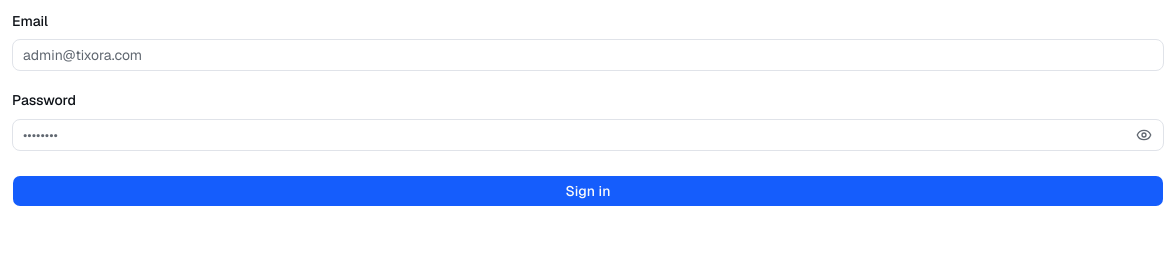
Test: LoginForm › shows validation errors and does not submit for invalid input
This screenshot has width=1176, height=279.
Type "not-an-email" into the field labelled "Email".
click(588, 55); type("not-an-email")  # box [12,39,1164,71]
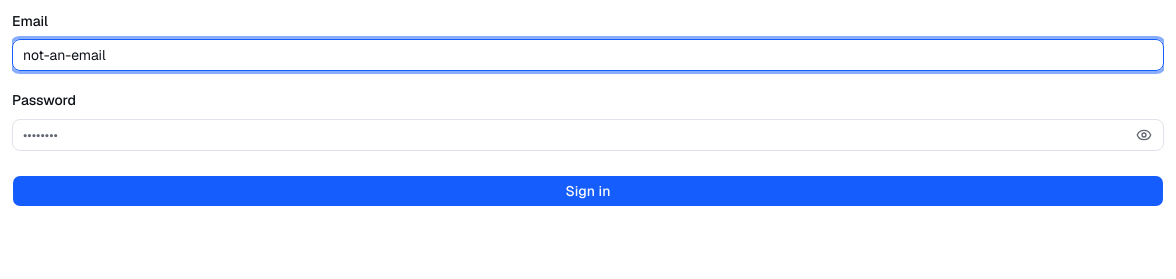
Type "123" into the password field labelled "Password".
click(588, 134); type("123")  # box [12,118,1164,150]
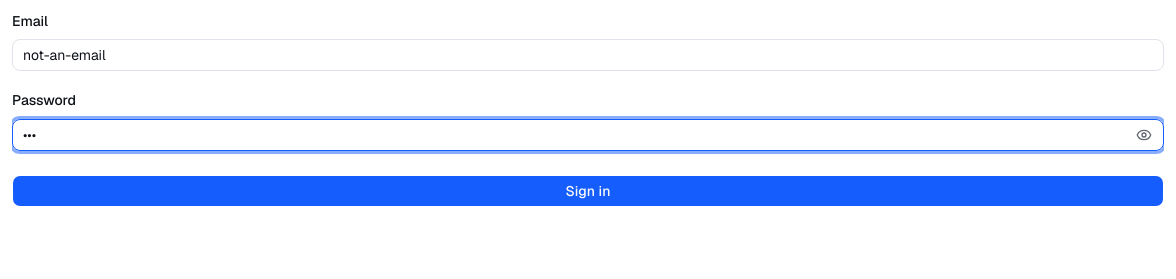
Click the button "Sign in".
click(588, 190)  # box [12,174,1164,206]
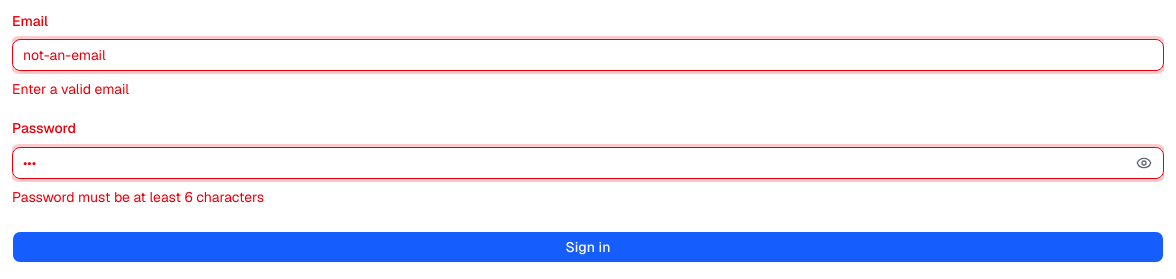
Expected: the text "Enter a valid email" is shown, [12,80,129,98]
Expected: the text "Password must be at least 6 characters" is shown, [12,188,264,206]
